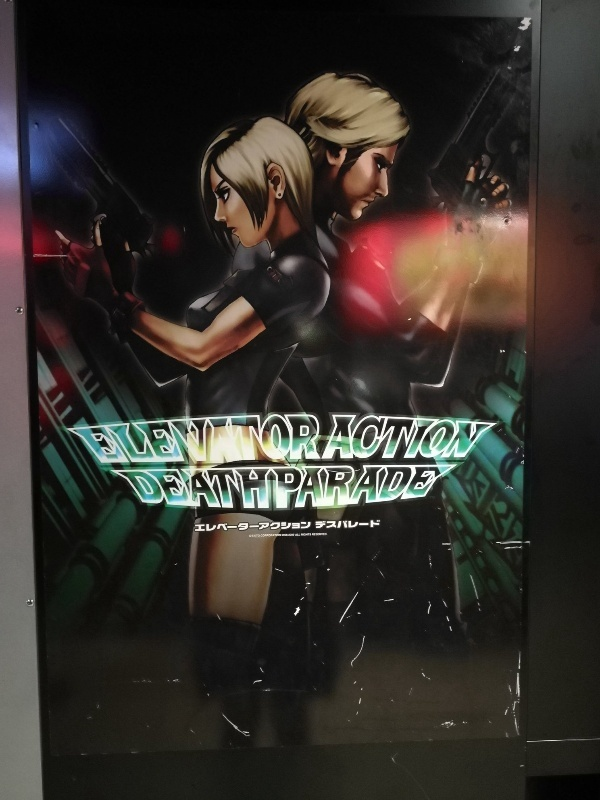text: (65, 417, 80, 477), (81, 417, 96, 477), (97, 417, 112, 477), (113, 417, 128, 477), (129, 417, 144, 477), (145, 417, 160, 477), (161, 417, 176, 477), (177, 417, 192, 477), (193, 417, 208, 477), (209, 417, 224, 477), (225, 417, 240, 477), (241, 417, 256, 477), (257, 417, 272, 477), (273, 417, 288, 477), (289, 417, 304, 477), (305, 417, 320, 477), (321, 417, 336, 477), (337, 417, 352, 477), (353, 417, 368, 477), (369, 417, 384, 477), (385, 417, 400, 477), (401, 417, 416, 477), (417, 417, 432, 477), (433, 417, 448, 477), (449, 417, 464, 477), (465, 417, 480, 477), (481, 417, 496, 477), (113, 463, 128, 511), (129, 463, 144, 511), (145, 463, 160, 511), (161, 463, 176, 511), (177, 463, 192, 511), (193, 463, 208, 511), (209, 463, 224, 511), (225, 463, 240, 511), (241, 463, 256, 511), (257, 463, 272, 511), (273, 463, 288, 511), (289, 463, 304, 511), (305, 463, 320, 511), (321, 463, 336, 511), (337, 463, 352, 511), (353, 463, 368, 511), (369, 463, 384, 511), (385, 463, 400, 511), (401, 463, 416, 511), (417, 463, 432, 511), (433, 463, 448, 511), (449, 463, 461, 511), (497, 417, 501, 477), (209, 521, 224, 536), (225, 521, 240, 536), (241, 521, 256, 536), (257, 521, 272, 536), (273, 521, 288, 536), (289, 521, 304, 536), (195, 521, 208, 536), (108, 463, 112, 511), (321, 519, 336, 530), (337, 519, 352, 530), (353, 519, 368, 530), (369, 519, 380, 530), (257, 532, 272, 539), (273, 532, 288, 539), (289, 532, 304, 539), (305, 532, 320, 539), (305, 521, 311, 536), (321, 532, 328, 539), (316, 519, 320, 530), (250, 532, 256, 539)
